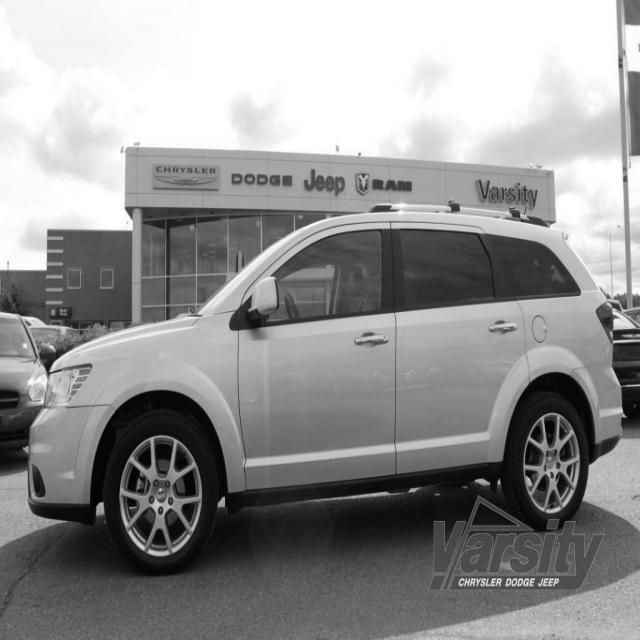car: (26, 198, 624, 574), (0, 310, 56, 456)
